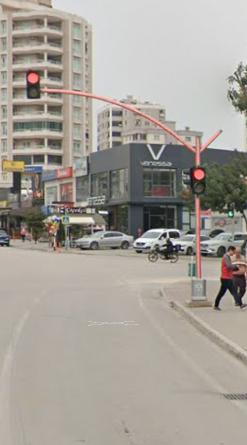redlight: (24, 67, 42, 102), (190, 167, 208, 197)
